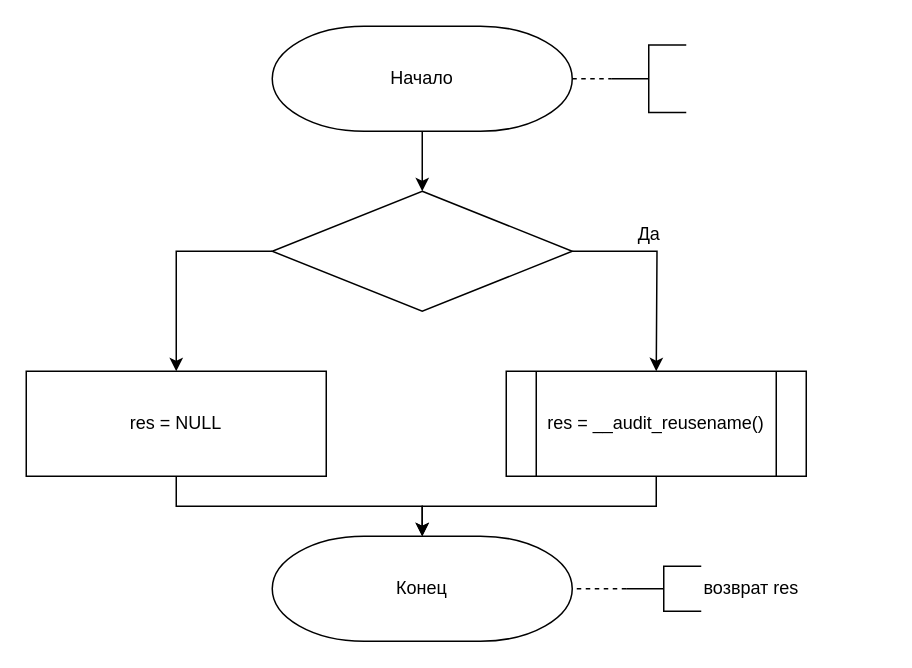
This 912x668 diagram has some shape labels left out. Each missing label, with the centre of its shape:
"audit_reusename Проверка находится ли filename в auditnames" belongs at point (648, 78).
"filename находится в auditnames?" belongs at point (421, 250).
